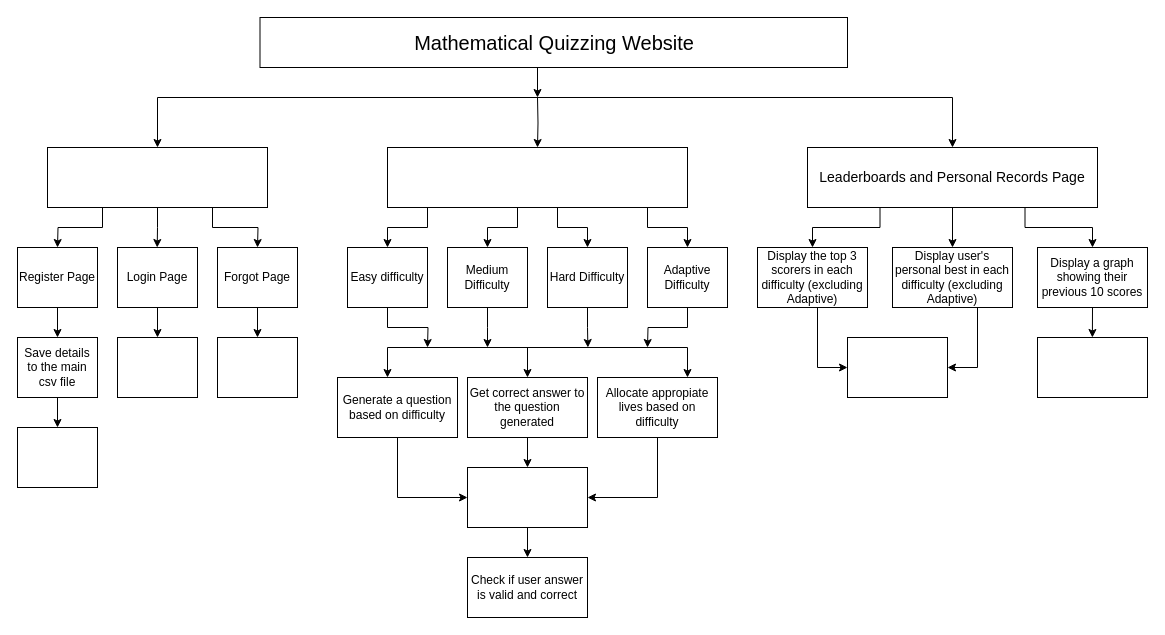
The diagram is 1165 pixels wide and 635 high, and some of its shapes have lost their labels. The centre of each missing label's shape, as x and y in pixels:
"Check if they still have lives" goes at (x=527, y=497).
"Create another csv file under their username" goes at (x=57, y=457).
"Handling and Saving User data" goes at (x=157, y=177).
"Home Page" goes at (x=537, y=177).
"Read from the csv file under their username" goes at (x=1092, y=367).
"Read from the main csv file" goes at (x=897, y=367).
"Verify details by reading from the main csv file" goes at (x=157, y=367).
"Verify it's them by sending a PIN to their email" goes at (x=257, y=367).
